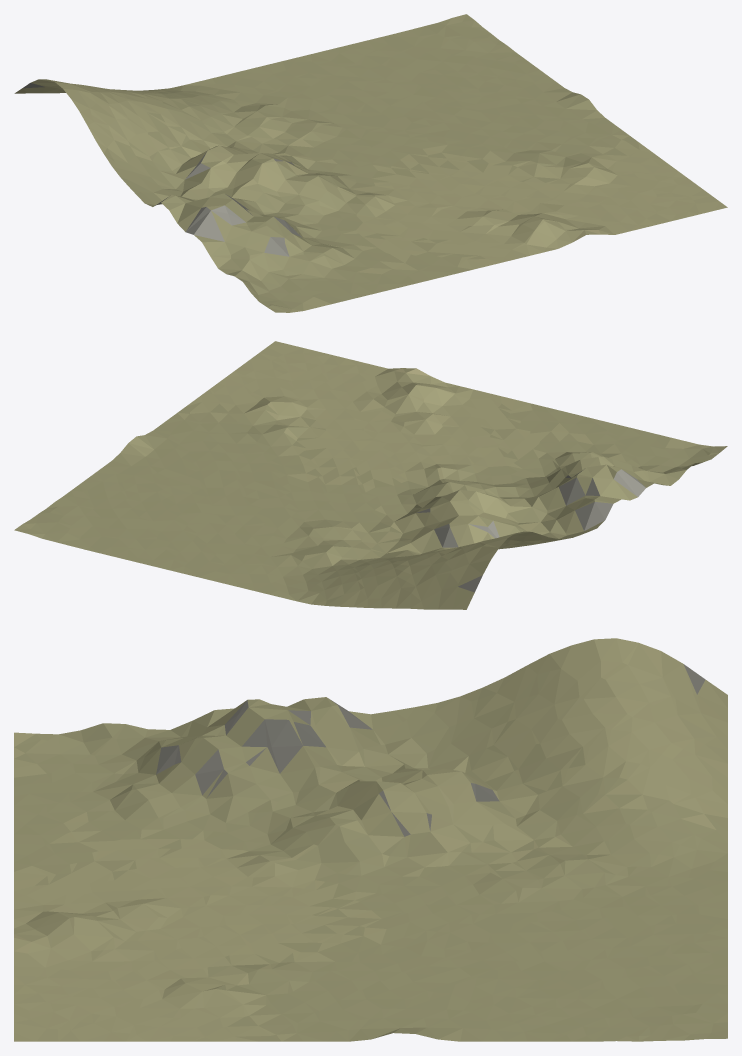
Rendered from Ground_-1_3.glb.
3 views of the same model, one above another, from view 1: azimuth 30°, elevation 25°; view 2: azimuth 150°, elevation 25°; view 3: azimuth 270°, elevation 25° (orthographic). The views are drawn at different scales.
Parts seen in each view (by area): view 1: Ground_-1_3; view 2: Ground_-1_3; view 3: Ground_-1_3.
Part boxes in pixels (bbox=[...]): Ground_-1_3: bbox=[14, 14, 727, 312]; Ground_-1_3: bbox=[14, 341, 727, 609]; Ground_-1_3: bbox=[14, 638, 727, 1041].
Size of the model in its own units: 768 by 121 by 768.
